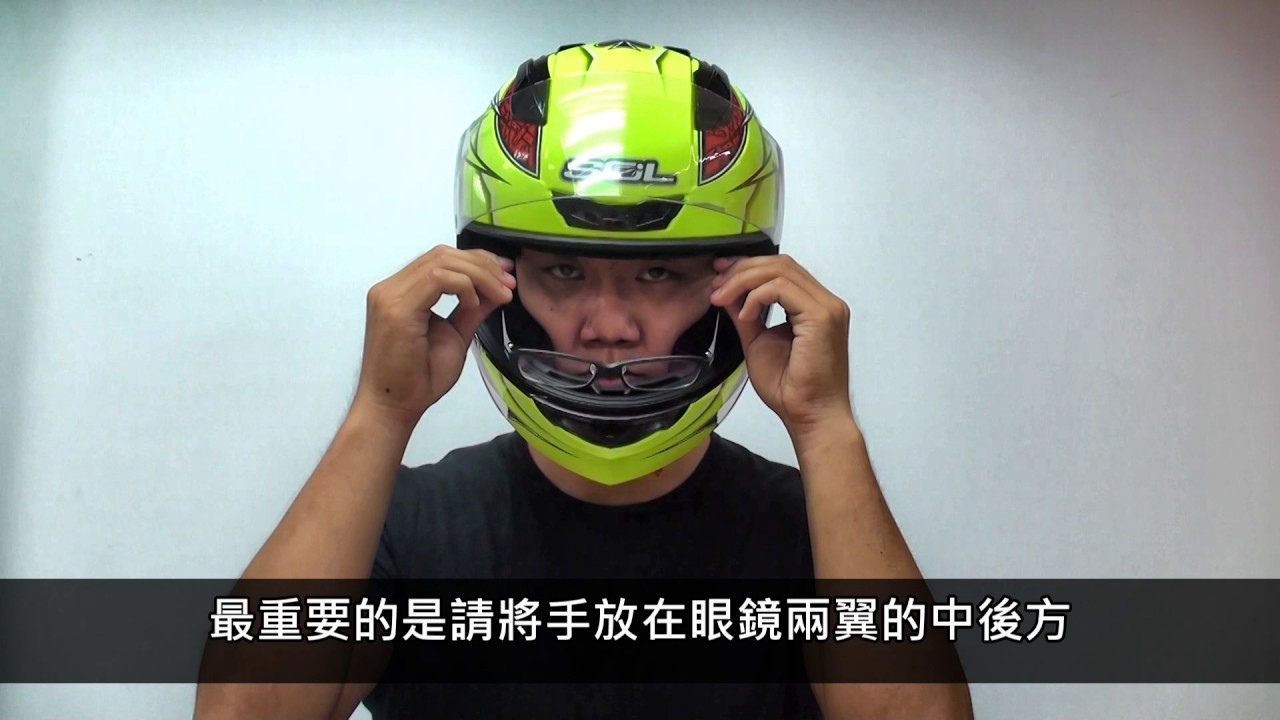helmet: (442, 70, 809, 473)
